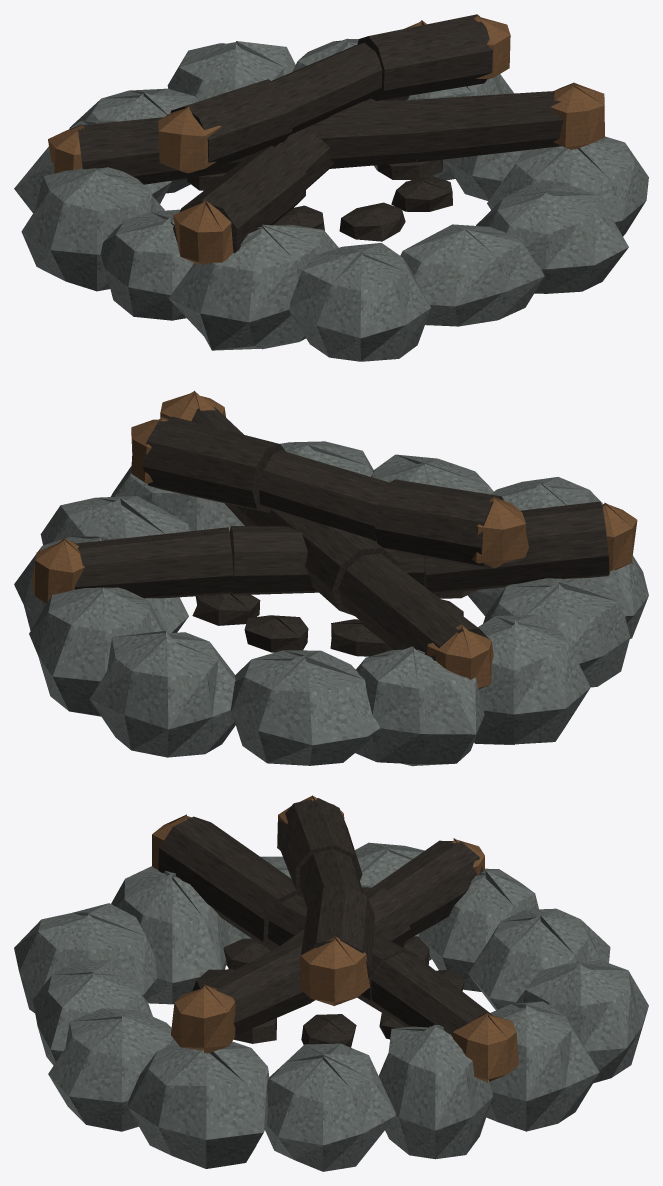
The model's file is cs-007_campfire_ember.obj.
3 renders of one model, top to bottom at view 1: azimuth 30°, elevation 25°; view 2: azimuth 150°, elevation 25°; view 3: azimuth 270°, elevation 25°, orthographic. The views are drawn at different scales.
Parts seen in each view (by area): view 1: cs-007_campfire_ember; view 2: cs-007_campfire_ember; view 3: cs-007_campfire_ember.
Boxes of the visible parts, box(x1,y1,x2,y2) form: cs-007_campfire_ember: box(14, 14, 648, 361); cs-007_campfire_ember: box(14, 390, 648, 766); cs-007_campfire_ember: box(14, 795, 648, 1171).
Size of the model in its own units: 1.13 by 0.4136 by 1.12.
Materials: 3 (3 with a texture image).
